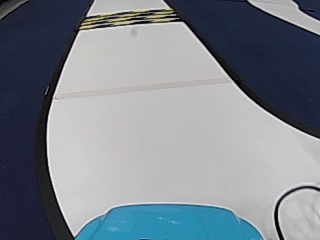bump: (96, 6, 172, 31)
